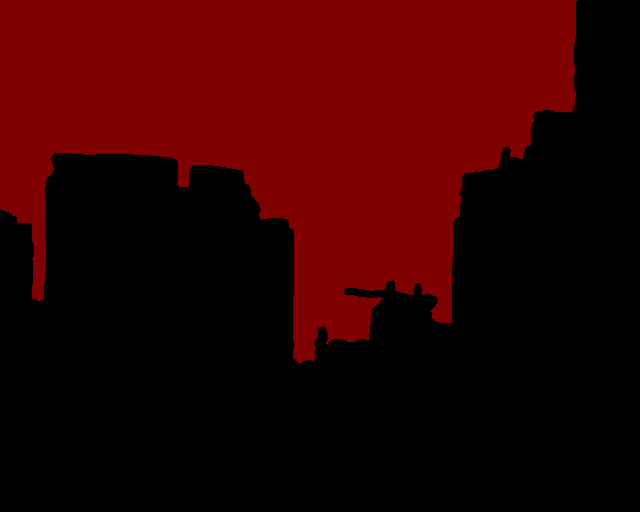Sky: (1, 1, 577, 363)
